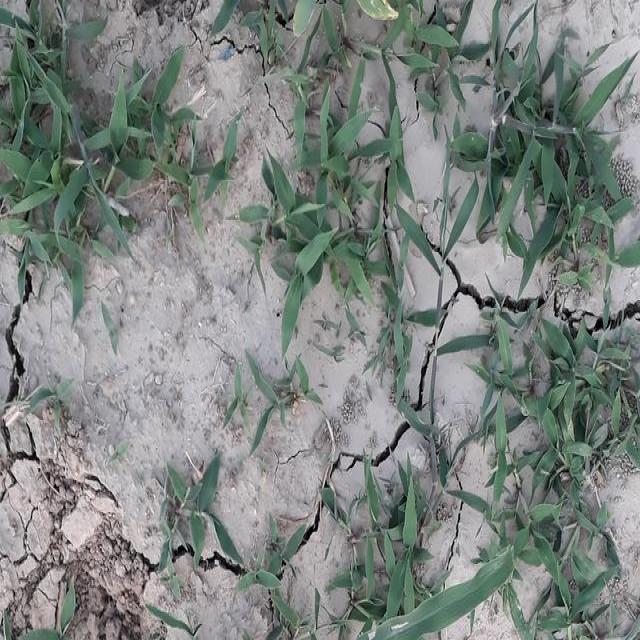weed: (463, 323, 640, 640), (0, 0, 181, 309), (244, 89, 434, 337), (469, 43, 627, 270)
